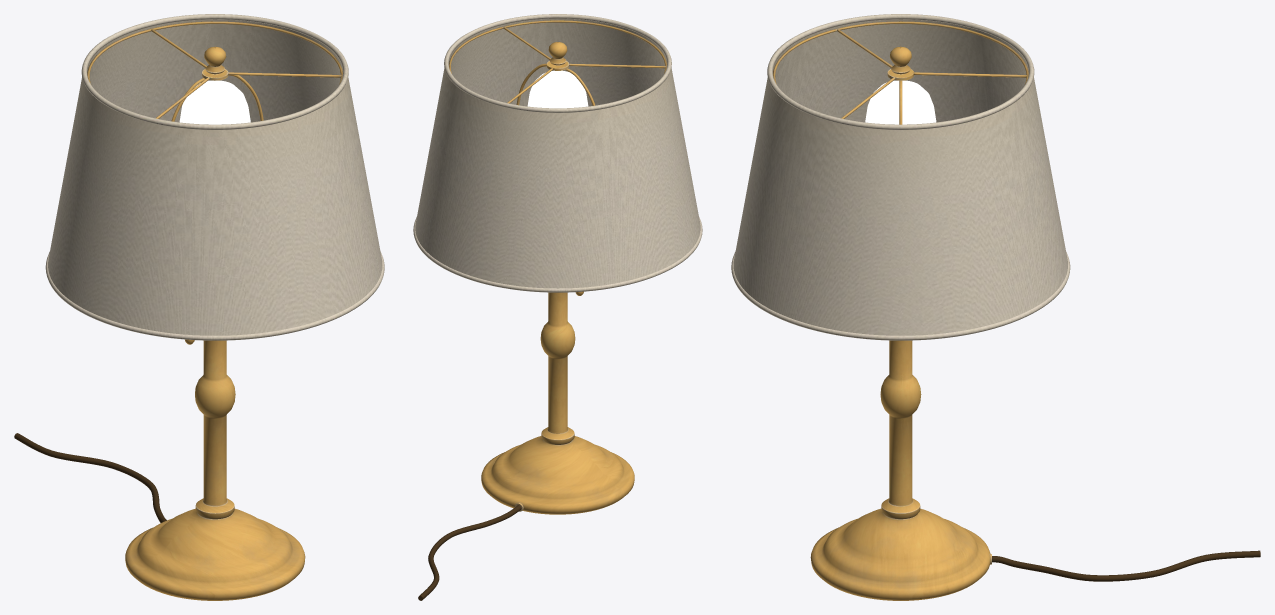
The model's file is corner_lamp.glb.
The picture shows the model from 3 angles, left to right: view 1: azimuth 30°, elevation 25°; view 2: azimuth 150°, elevation 25°; view 3: azimuth 270°, elevation 25°; orthographic projection. The views are drawn at different scales.
Parts seen in each view (by area): view 1: LampShade, LampBody, LampBulb; view 2: LampShade, LampBody, LampBulb; view 3: LampShade, LampBody, LampBulb.
Boxes of the visible parts, x1,y1,x2,y2 form: LampShade: [45, 14, 384, 340]; LampBody: [14, 46, 305, 600]; LampBulb: [179, 80, 250, 124]; LampShade: [413, 14, 702, 292]; LampBody: [418, 42, 634, 600]; LampBulb: [527, 70, 588, 108]; LampShade: [731, 14, 1070, 340]; LampBody: [810, 46, 1260, 600]; LampBulb: [865, 80, 936, 124].
Size of the model in its own units: 0.283 by 0.4772 by 0.4418.
Materials: 3 (2 with a texture image).
